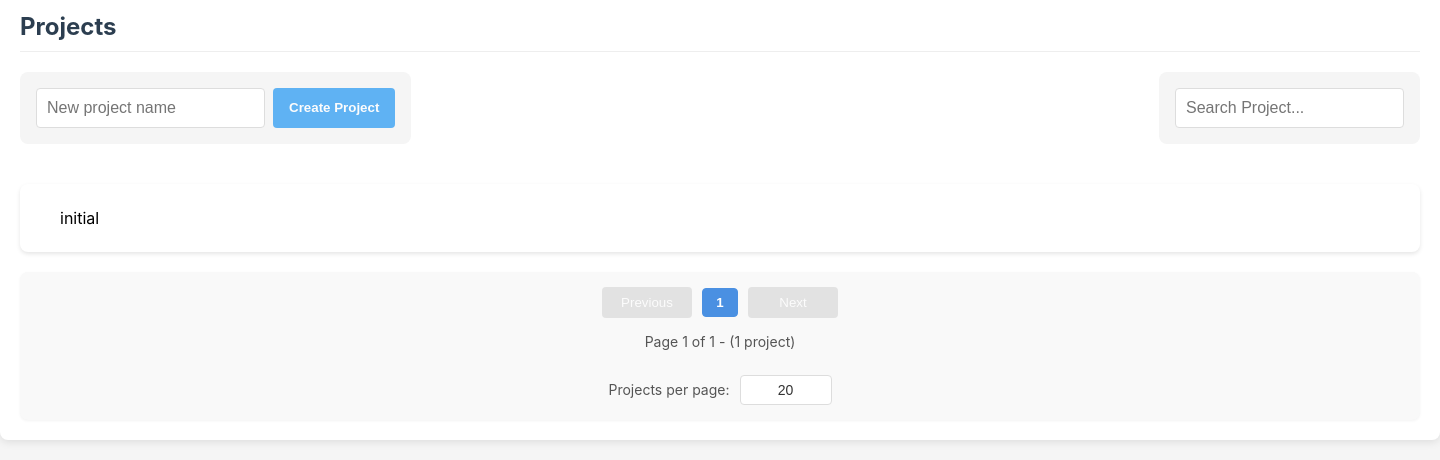
ProjectOverview › ignores a late response for an older search term
expect the text "initial" is shown: met, box x1=20 y1=184 x2=1420 y2=252
Step 1. Type "xy" into the field with placeholder "Search Project..." → coordinates (1290, 108), box x1=1175 y1=88 x2=1404 y2=128
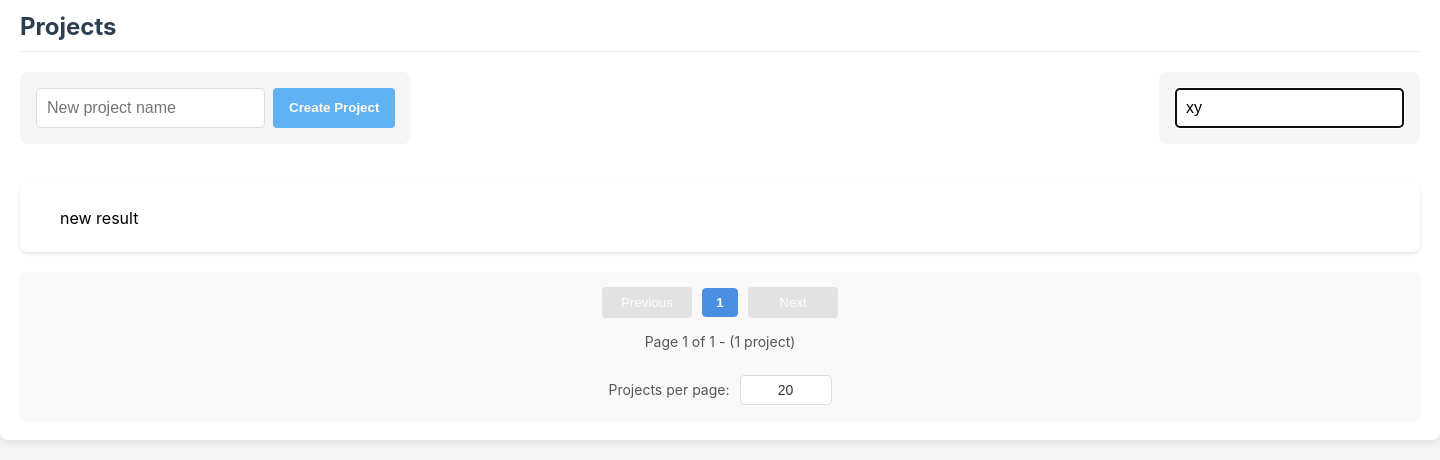
expect the text "new result" is shown: met, box x1=20 y1=184 x2=1420 y2=252
